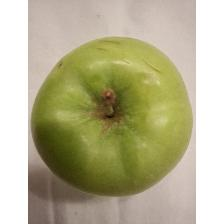Apfel: (28, 33, 196, 196)
